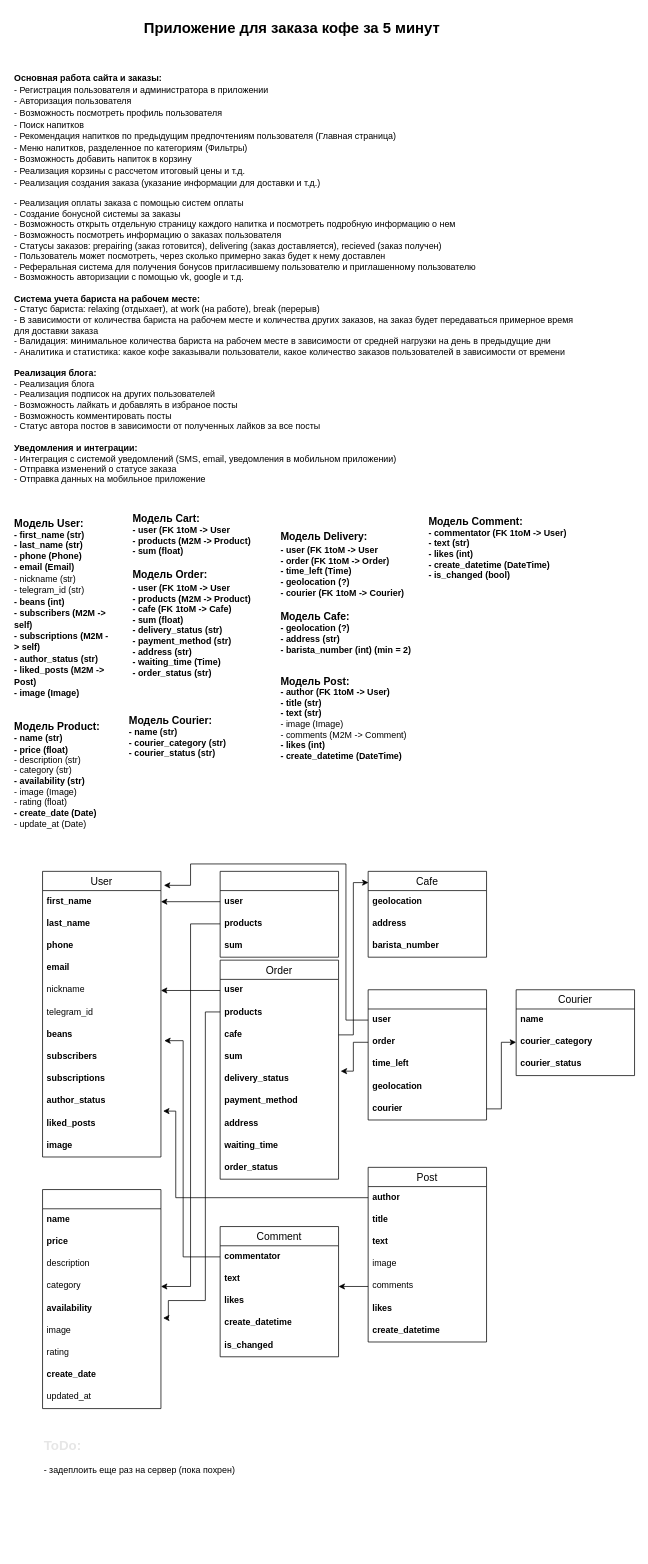
The diagram is 648 pixels wide and 1564 high, and some of its shapes have lost their labels. The box of each missing label's shape, as (x1, y1, x2, y2) in pixels:
Cart: (219, 871, 339, 957)
Delivery: (367, 989, 487, 1120)
Product: (42, 1189, 161, 1409)
